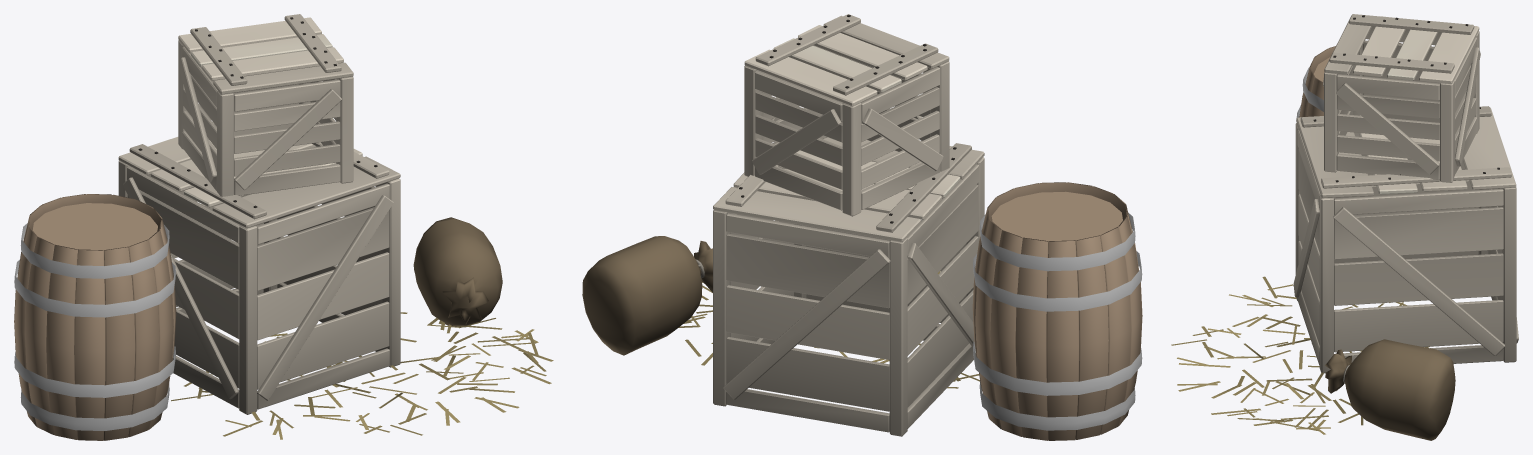
The model's file is crates_street.glb.
3 renders of one model, left to right at view 1: azimuth 30°, elevation 25°; view 2: azimuth 150°, elevation 25°; view 3: azimuth 270°, elevation 25°, orthographic. The views are drawn at different scales.
Visible parts, largest first — view 1: crates_street; view 2: crates_street; view 3: crates_street.
Part boxes in pixels (left/top/right/bottom): crates_street: left=14, top=14, right=553, bottom=440; crates_street: left=582, top=14, right=1142, bottom=440; crates_street: left=1171, top=14, right=1518, bottom=440.
Size of what is drawn, in the model's own units: 2.45 by 1.53 by 1.59.
